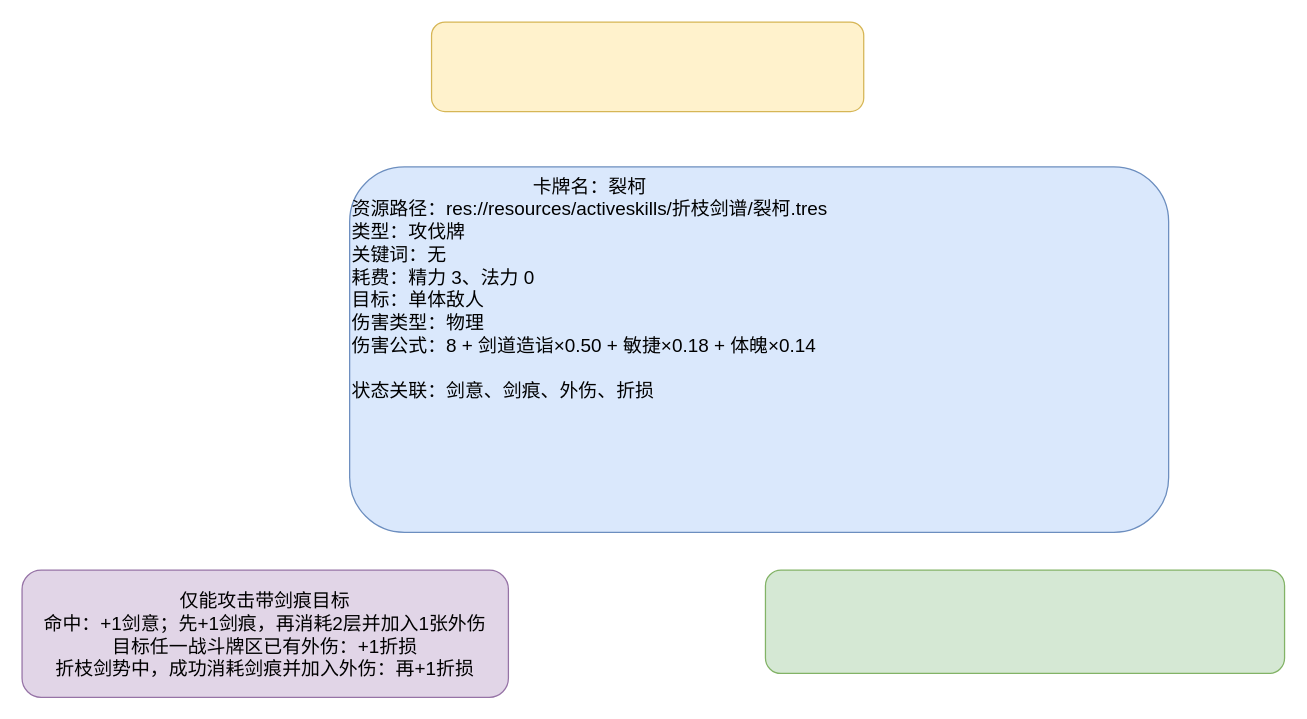
Some shapes in this 1307 by 719 pixel diagram are drawn without their labels. The centre of each missing label's shape, as x and y in pixels:
"定位：消耗剑痕并施加折损 递进：裂筋 → 见骨 目标已有外伤时额外施加折损，为挑枝断筋和摧枝一剑积累层数" belongs at point 1024,621.
"裂柯 折枝剑谱 / 裂柯卷 / 主修习得*1" belongs at point 647,66.
